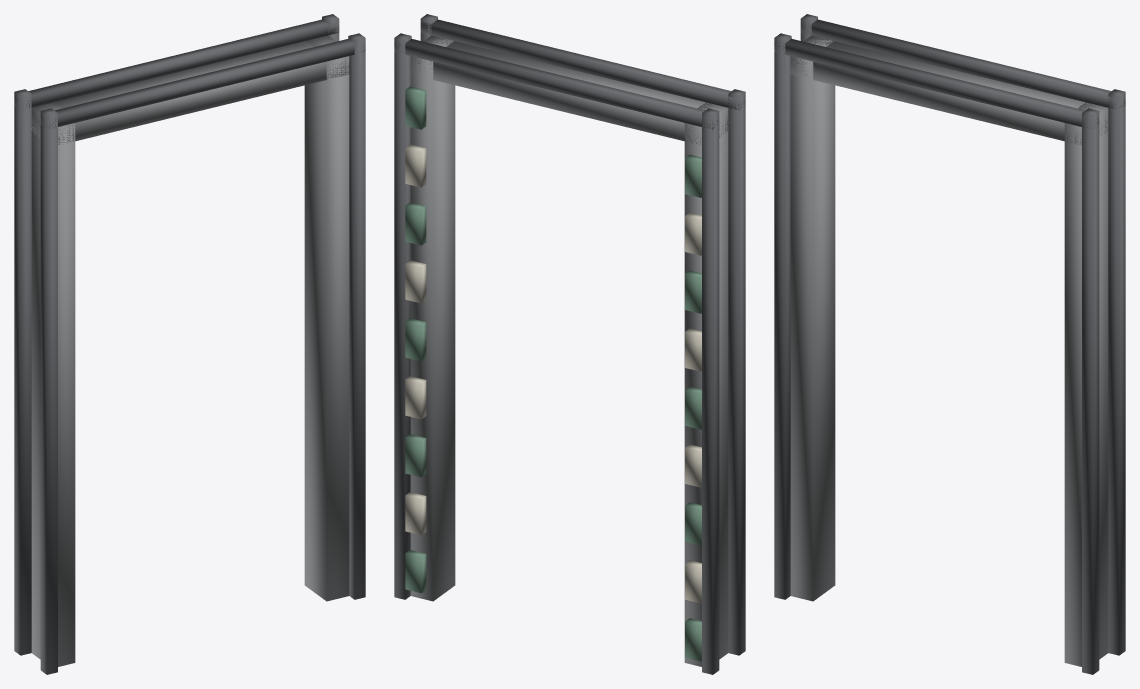
Rendered from doorway_tile_return_w106_h210_d16.glb.
3 renders of one model, left to right at view 1: azimuth 30°, elevation 25°; view 2: azimuth 150°, elevation 25°; view 3: azimuth 330°, elevation 25°, orthographic.
Visible parts, largest first — view 1: world; view 2: world; view 3: world.
Boxes of the visible parts, box(x1,y1,x2,y2) form: world: box(14, 14, 365, 674); world: box(394, 14, 745, 674); world: box(774, 14, 1125, 674).
Bounding box in the file's own units: 1.34 × 2.25 × 0.2414.
